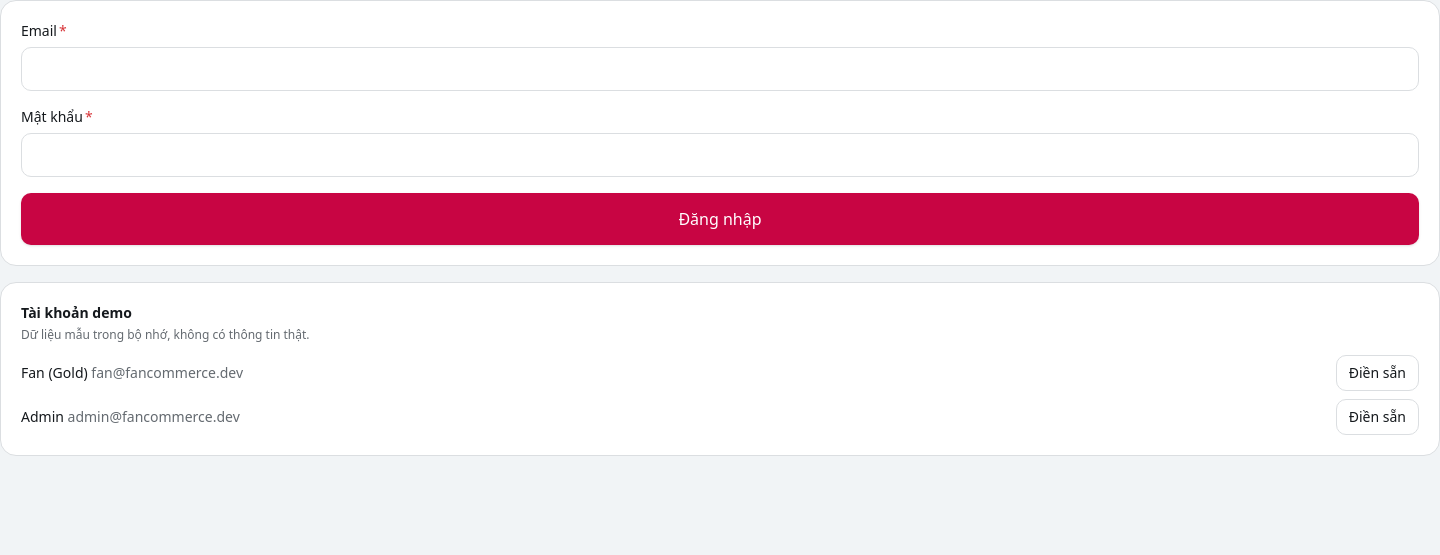
Scenario: <LoginForm /> › shows the server message without leaking which field was wrong
The width and height of the screenshot is (1440, 555).
Type "fan@fancommerce.dev" into the field labelled "Email*" at x=720, y=69, box [21, 47, 1419, 91]
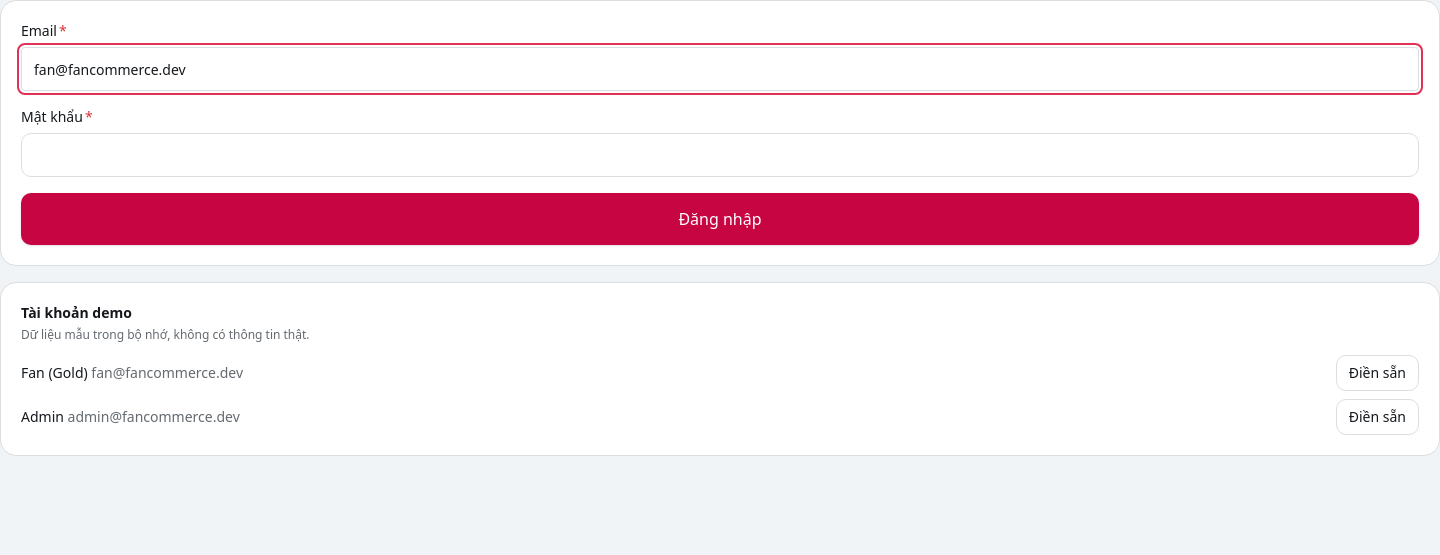
Type "wrongpassword" into the password field labelled "Mật khẩu*" at x=720, y=155, box [21, 133, 1419, 177]
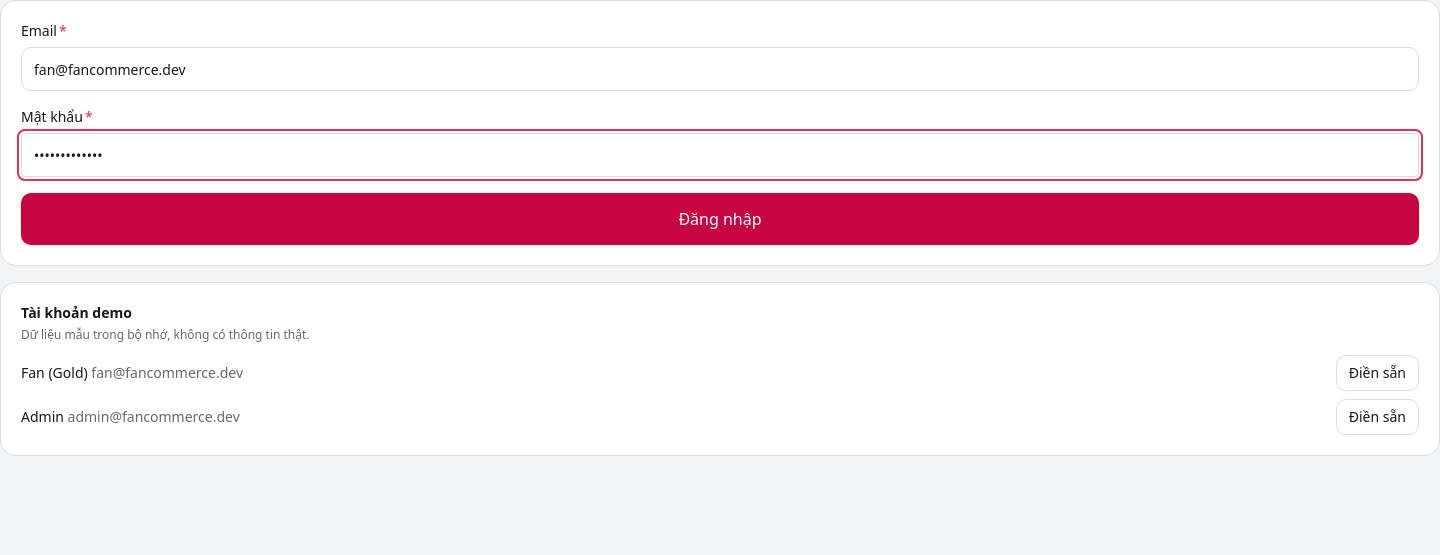
Click the button "Đăng nhập" at x=720, y=219, box [21, 193, 1419, 245]
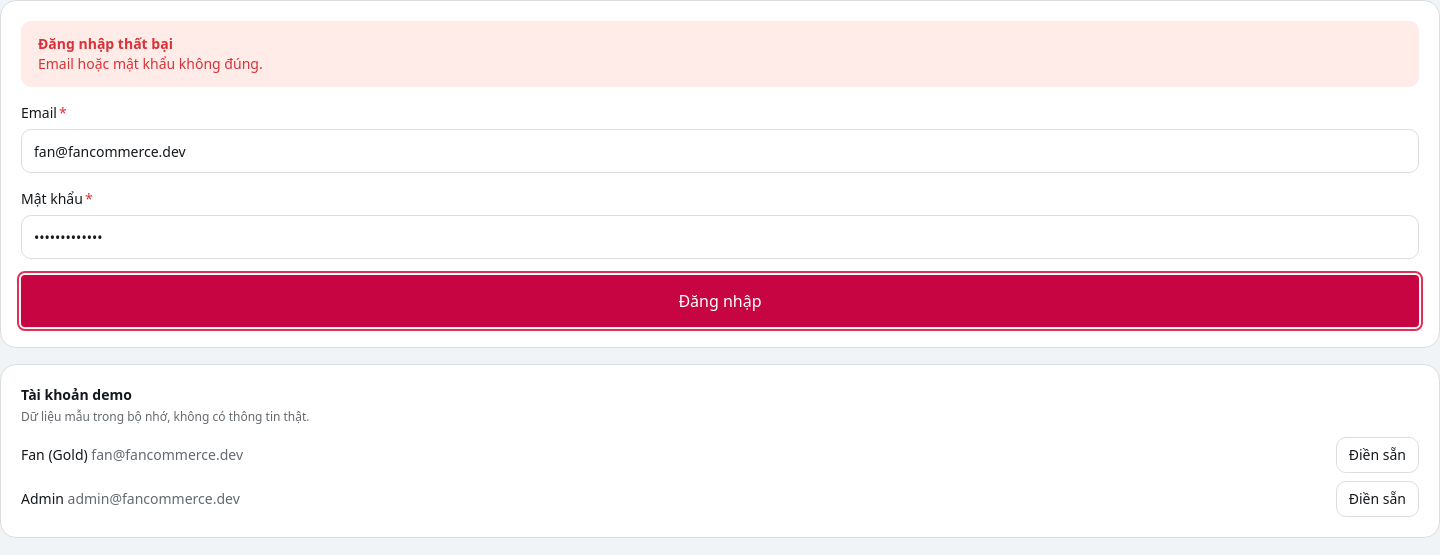
Now the message shows "Email hoặc mật khẩu không đúng.", box [38, 54, 263, 73]
